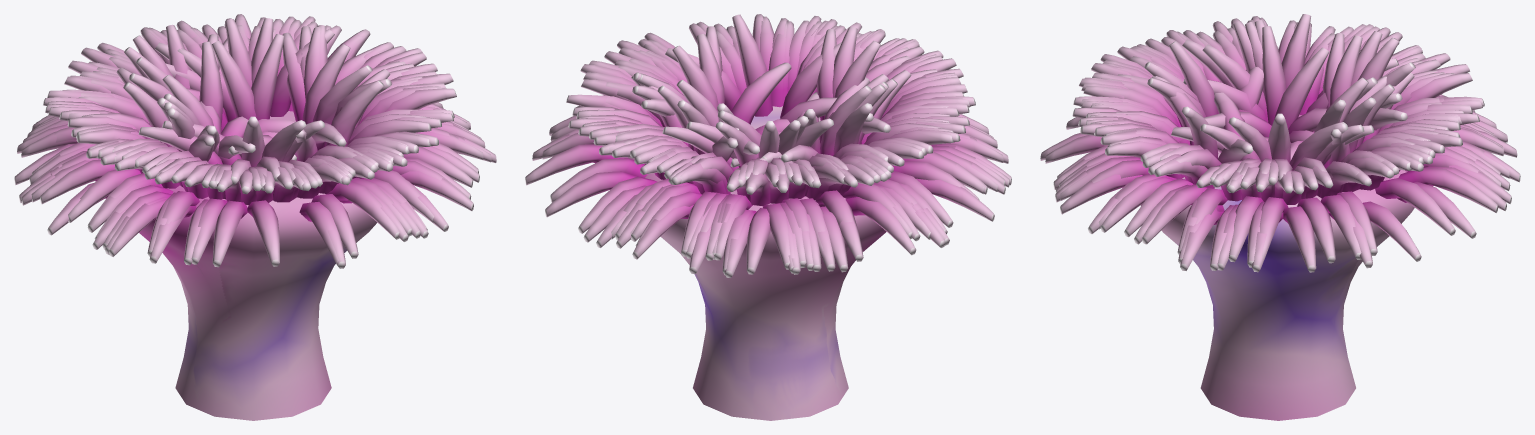
Rendered from AnemoneOnly.fbx.
The picture shows the model from 3 angles, left to right: view 1: azimuth 30°, elevation 25°; view 2: azimuth 150°, elevation 25°; view 3: azimuth 270°, elevation 25°; orthographic projection.
Parts seen in each view (by area): view 1: Anemone_LOD0; view 2: Anemone_LOD0; view 3: Anemone_LOD0.
Part boxes in pixels (x1,y1,x2,y2): Anemone_LOD0: (14,14,496,420); Anemone_LOD0: (525,14,1011,420); Anemone_LOD0: (1040,14,1520,420).
Size of what is drawn, in the model's own units: 0.4737 by 0.4714 by 0.3492.
